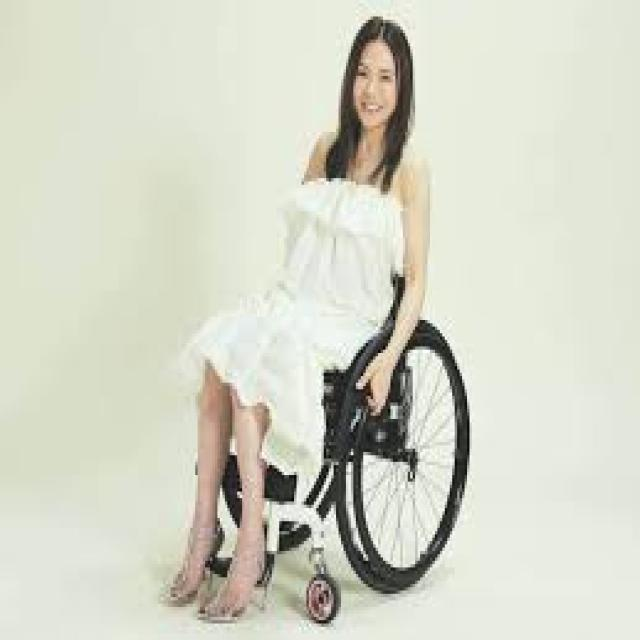wheelchairs: (190, 241, 474, 637)
